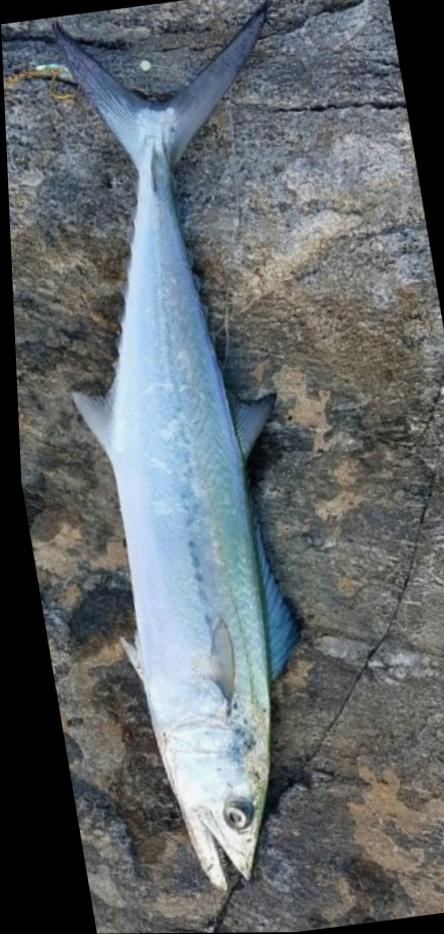fish: (53, 2, 293, 890)
